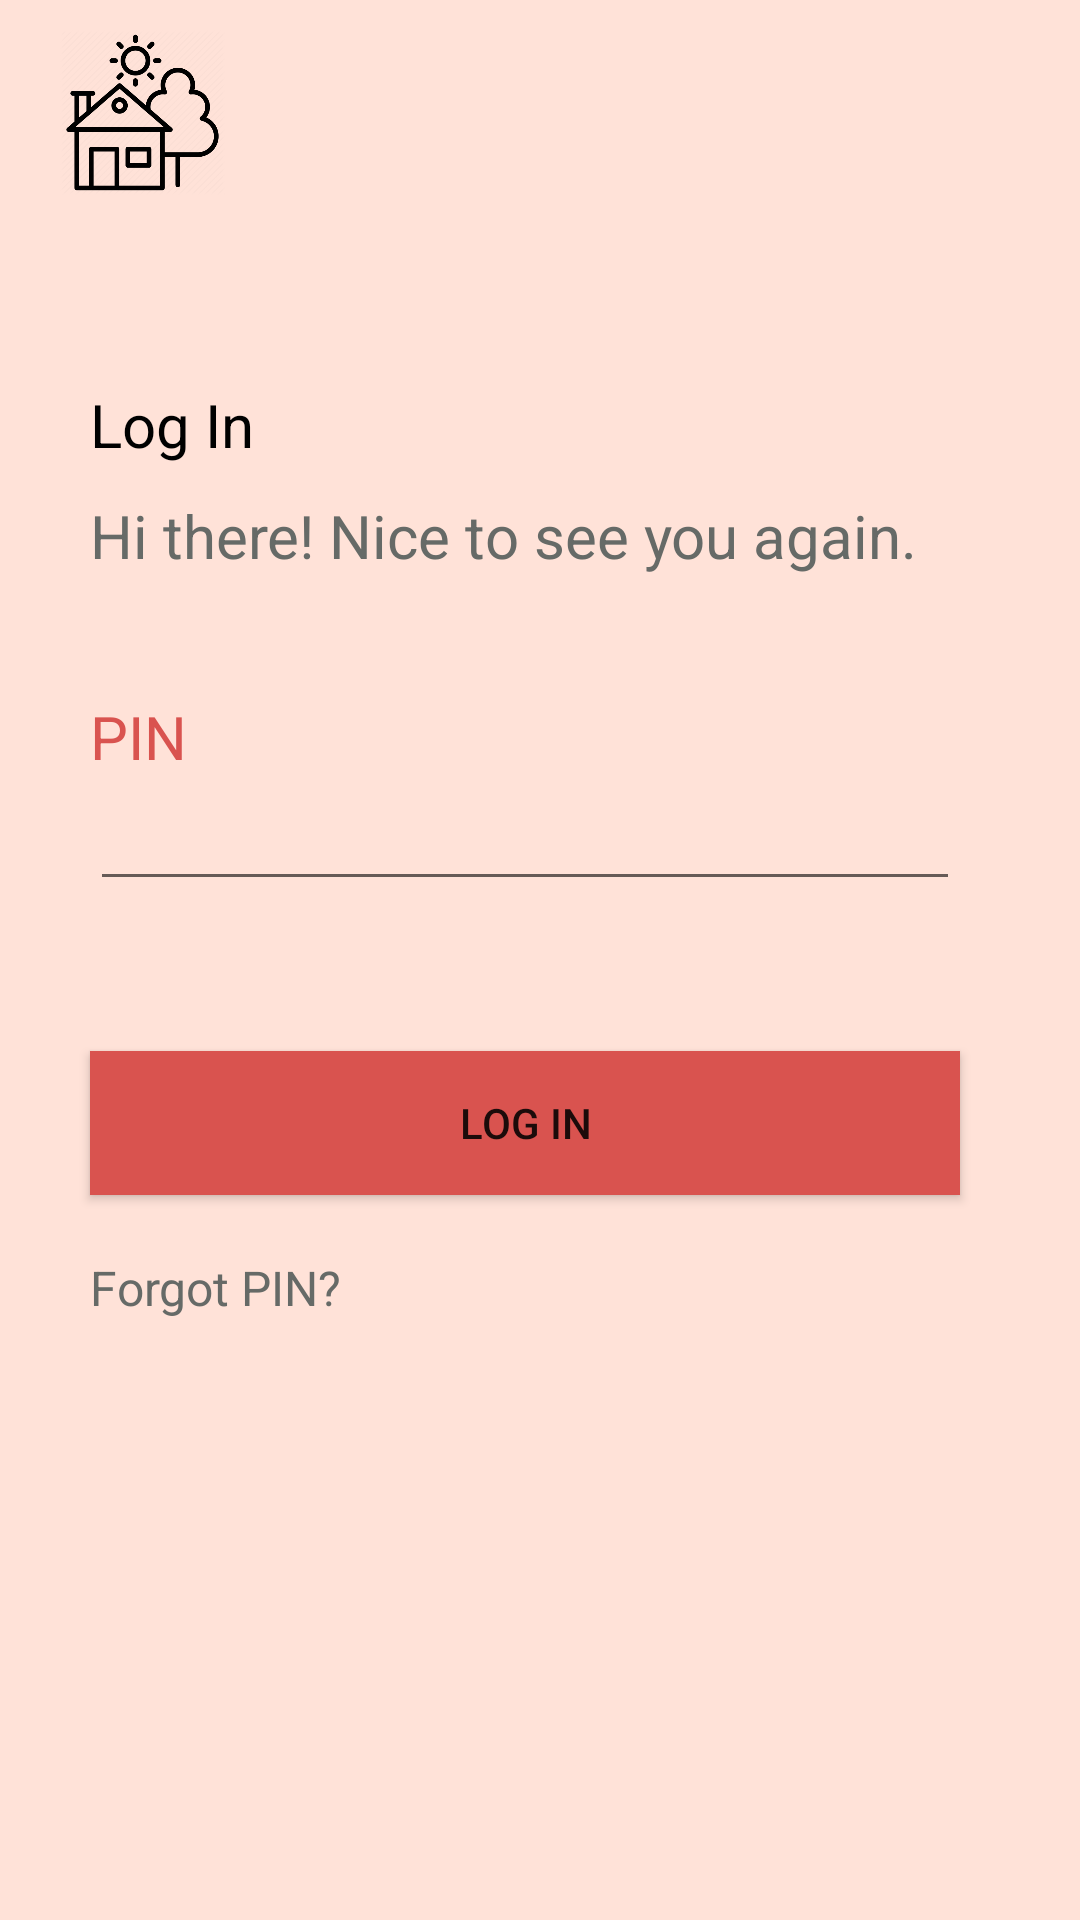

Named icons in this screenshot (1080 x 1920) and their centers, point (x, y):
house: point (142, 112)
